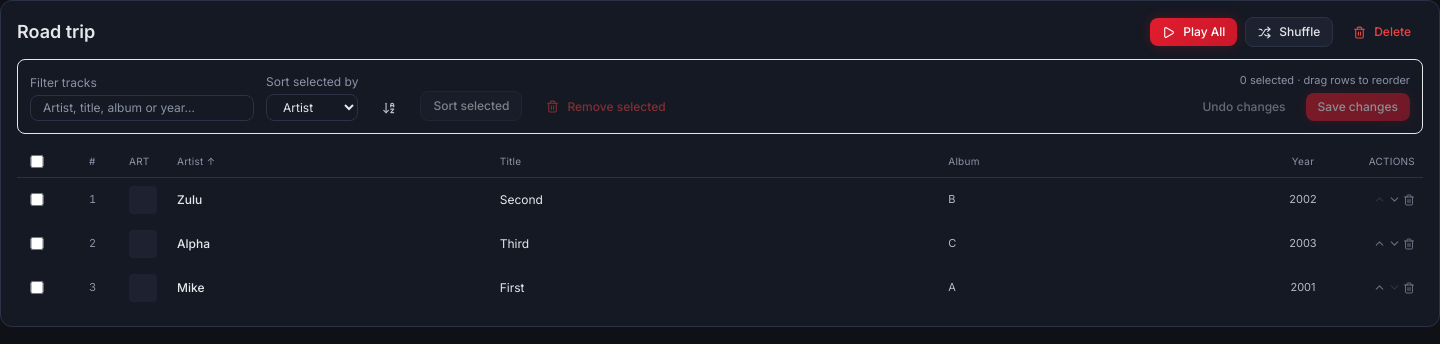
Scenario: PlaylistDetail › sorts only bulk-selected tracks and can undo the draft
The width and height of the screenshot is (1440, 344).
Expected: the button "Sort selected" is disabled, [420,90,522,120]
Click the checkbox named "Select Zulu — Second" at {"x": 37, "y": 200}, box [25,193,49,206]
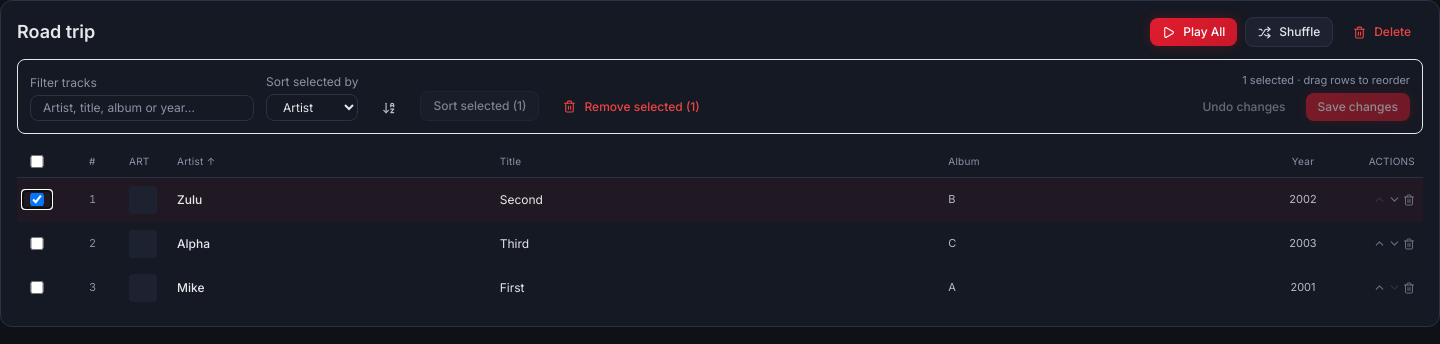
Click the checkbox named "Select Mike — First" at {"x": 37, "y": 288}, box [25,281,49,294]
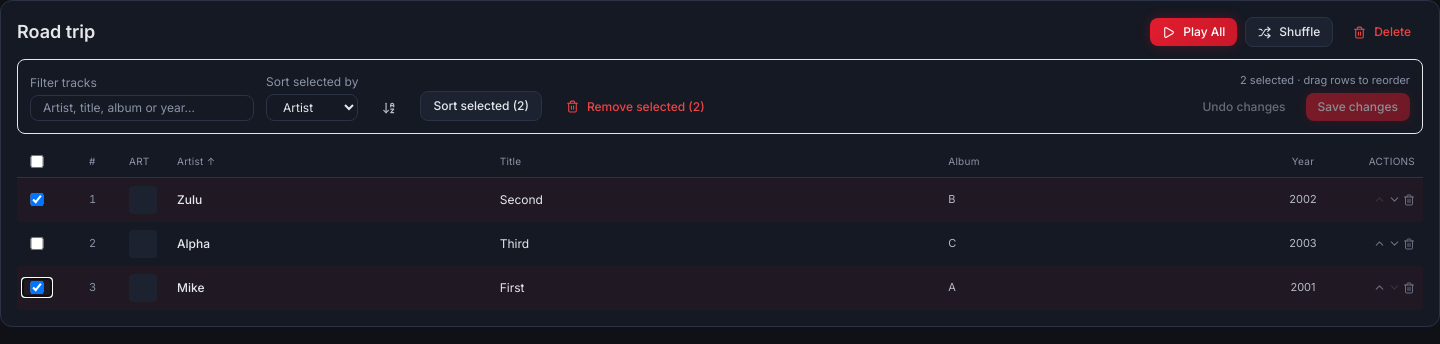
Click the button "Title" at {"x": 511, "y": 160}, box [500,154,940,168]
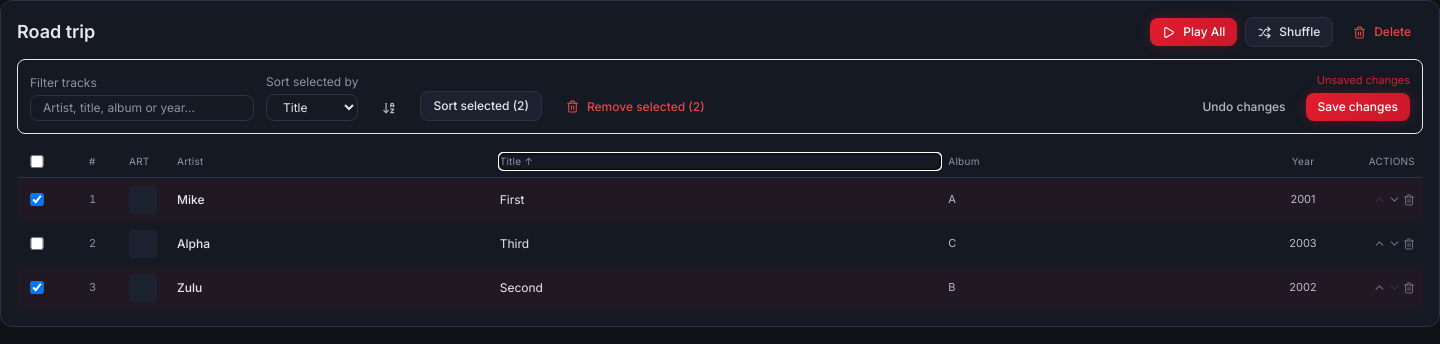
Expected: the button "Save changes" is enabled, [1306,92,1410,120]
Click the button "Undo changes" at {"x": 1244, "y": 106}, box [1190,92,1298,120]
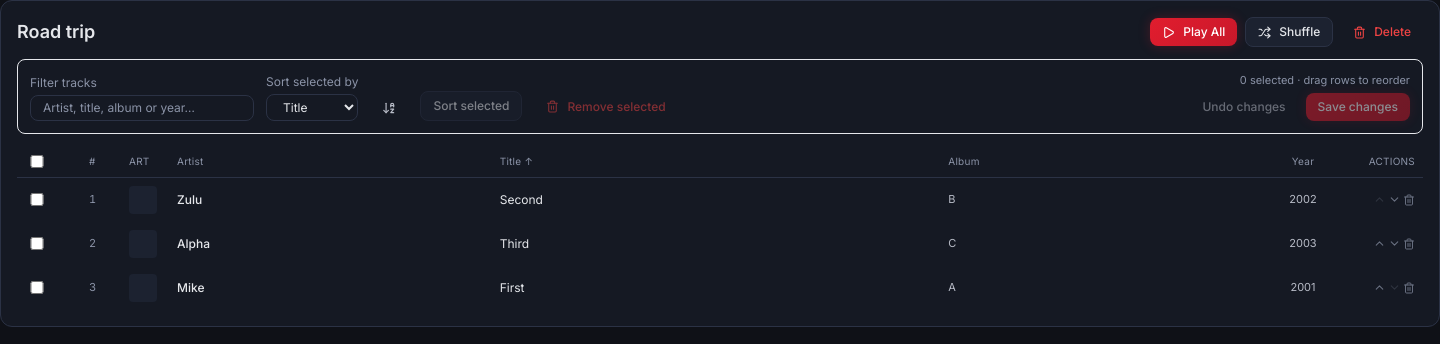
Expected: the button "Save changes" is disabled, [1306,92,1410,120]
